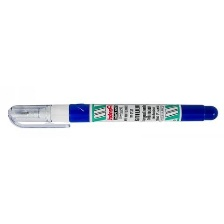correction_fluid: (5, 98, 220, 130)
